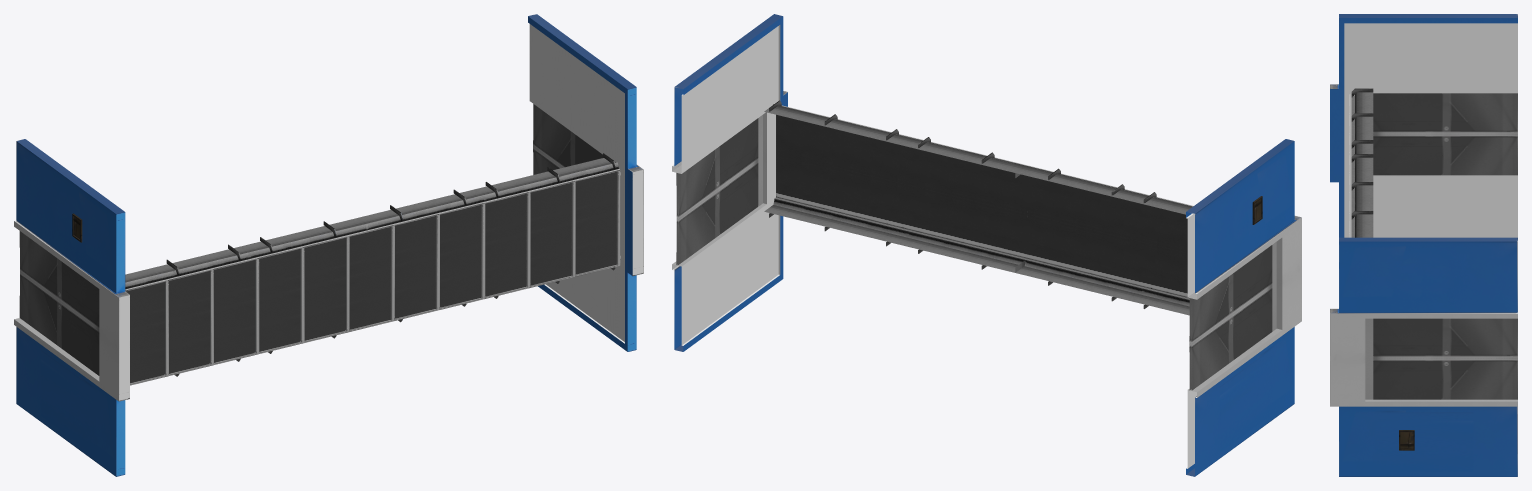
The model's file is set7G1200_1224.obj.
3 views of the same model, side by side, from view 1: azimuth 30°, elevation 25°; view 2: azimuth 150°, elevation 25°; view 3: azimuth 270°, elevation 25° (orthographic). The views are drawn at different scales.
Parts seen in each view (by area): view 1: set7G1200; view 2: set7G1200; view 3: set7G1200.
Boxes of the visible parts, x1,y1,x2,y2 form: set7G1200: [14, 14, 643, 476]; set7G1200: [672, 14, 1301, 476]; set7G1200: [1330, 14, 1517, 476].
Size of the model in its own units: 0.752 by 0.3599 by 0.26.
